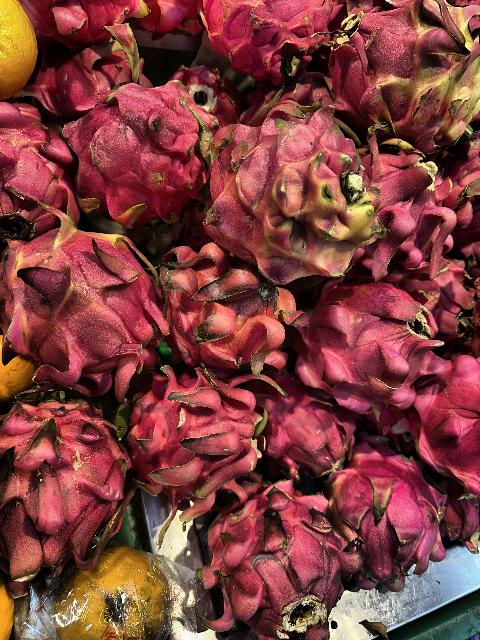buah-naga-belum-matang: (0, 193, 166, 394), (199, 110, 379, 274), (334, 2, 480, 144)
buah-naga-matang: (0, 394, 134, 588), (200, 472, 349, 640), (298, 268, 458, 418), (158, 246, 298, 394), (66, 86, 214, 222), (122, 370, 270, 496), (329, 445, 439, 585), (358, 134, 460, 284), (194, 0, 340, 84), (268, 384, 358, 490)
